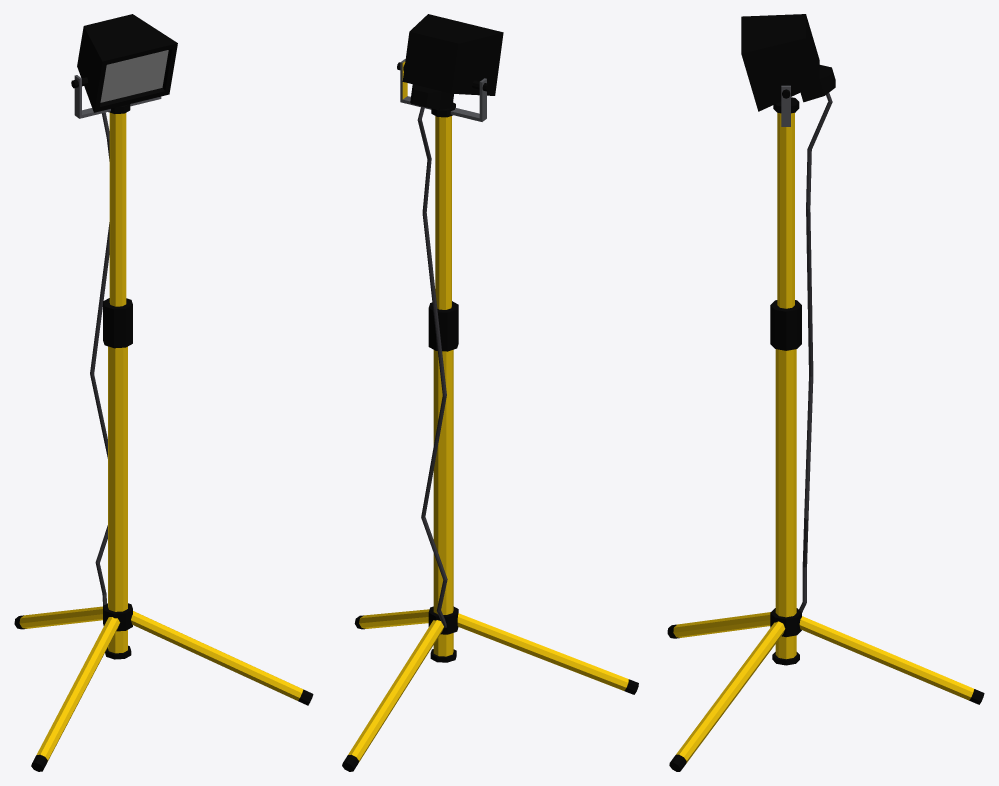
Rendered from Projecteur_A.FBX.
The picture shows the model from 3 angles, left to right: view 1: azimuth 30°, elevation 25°; view 2: azimuth 150°, elevation 25°; view 3: azimuth 270°, elevation 25°; orthographic projection.
Visible parts, largest first — view 1: Cylinder017, Box009, Top, Cylinder019, Cylinder024, verre, cable, Cylinder025; view 2: Box009, Cylinder017, Top, Cylinder024, cable, Cylinder025, Cylinder019; view 3: Cylinder017, Box009, Top, Cylinder025, cable, Cylinder019, Cylinder024.
Boxes of the visible parts, box(x1,y1,x2,y2) form: Cylinder017: box(103, 298, 132, 659); Box009: box(77, 14, 177, 112); Top: box(74, 75, 161, 306); Cylinder019: box(131, 611, 313, 705); Cylinder024: box(31, 617, 120, 771); verre: box(100, 50, 168, 102); cable: box(90, 112, 109, 605); Cylinder025: box(14, 606, 102, 629); Box009: box(402, 14, 503, 109); Cylinder017: box(428, 301, 458, 662); Top: box(400, 59, 486, 309); Cylinder024: box(457, 613, 638, 694); cable: box(417, 106, 447, 627); Cylinder025: box(342, 620, 443, 771); Cylinder019: box(354, 609, 429, 629); Cylinder017: box(770, 300, 801, 665); Box009: box(741, 14, 835, 111); Top: box(773, 85, 799, 308); Cylinder025: box(799, 616, 984, 704); cable: box(799, 93, 832, 612); Cylinder019: box(669, 621, 785, 771); Cylinder024: box(667, 612, 770, 638).
Bounding box in the file's own units: 74.66 × 170 × 71.91.
Materials: 2 (1 with a texture image).
